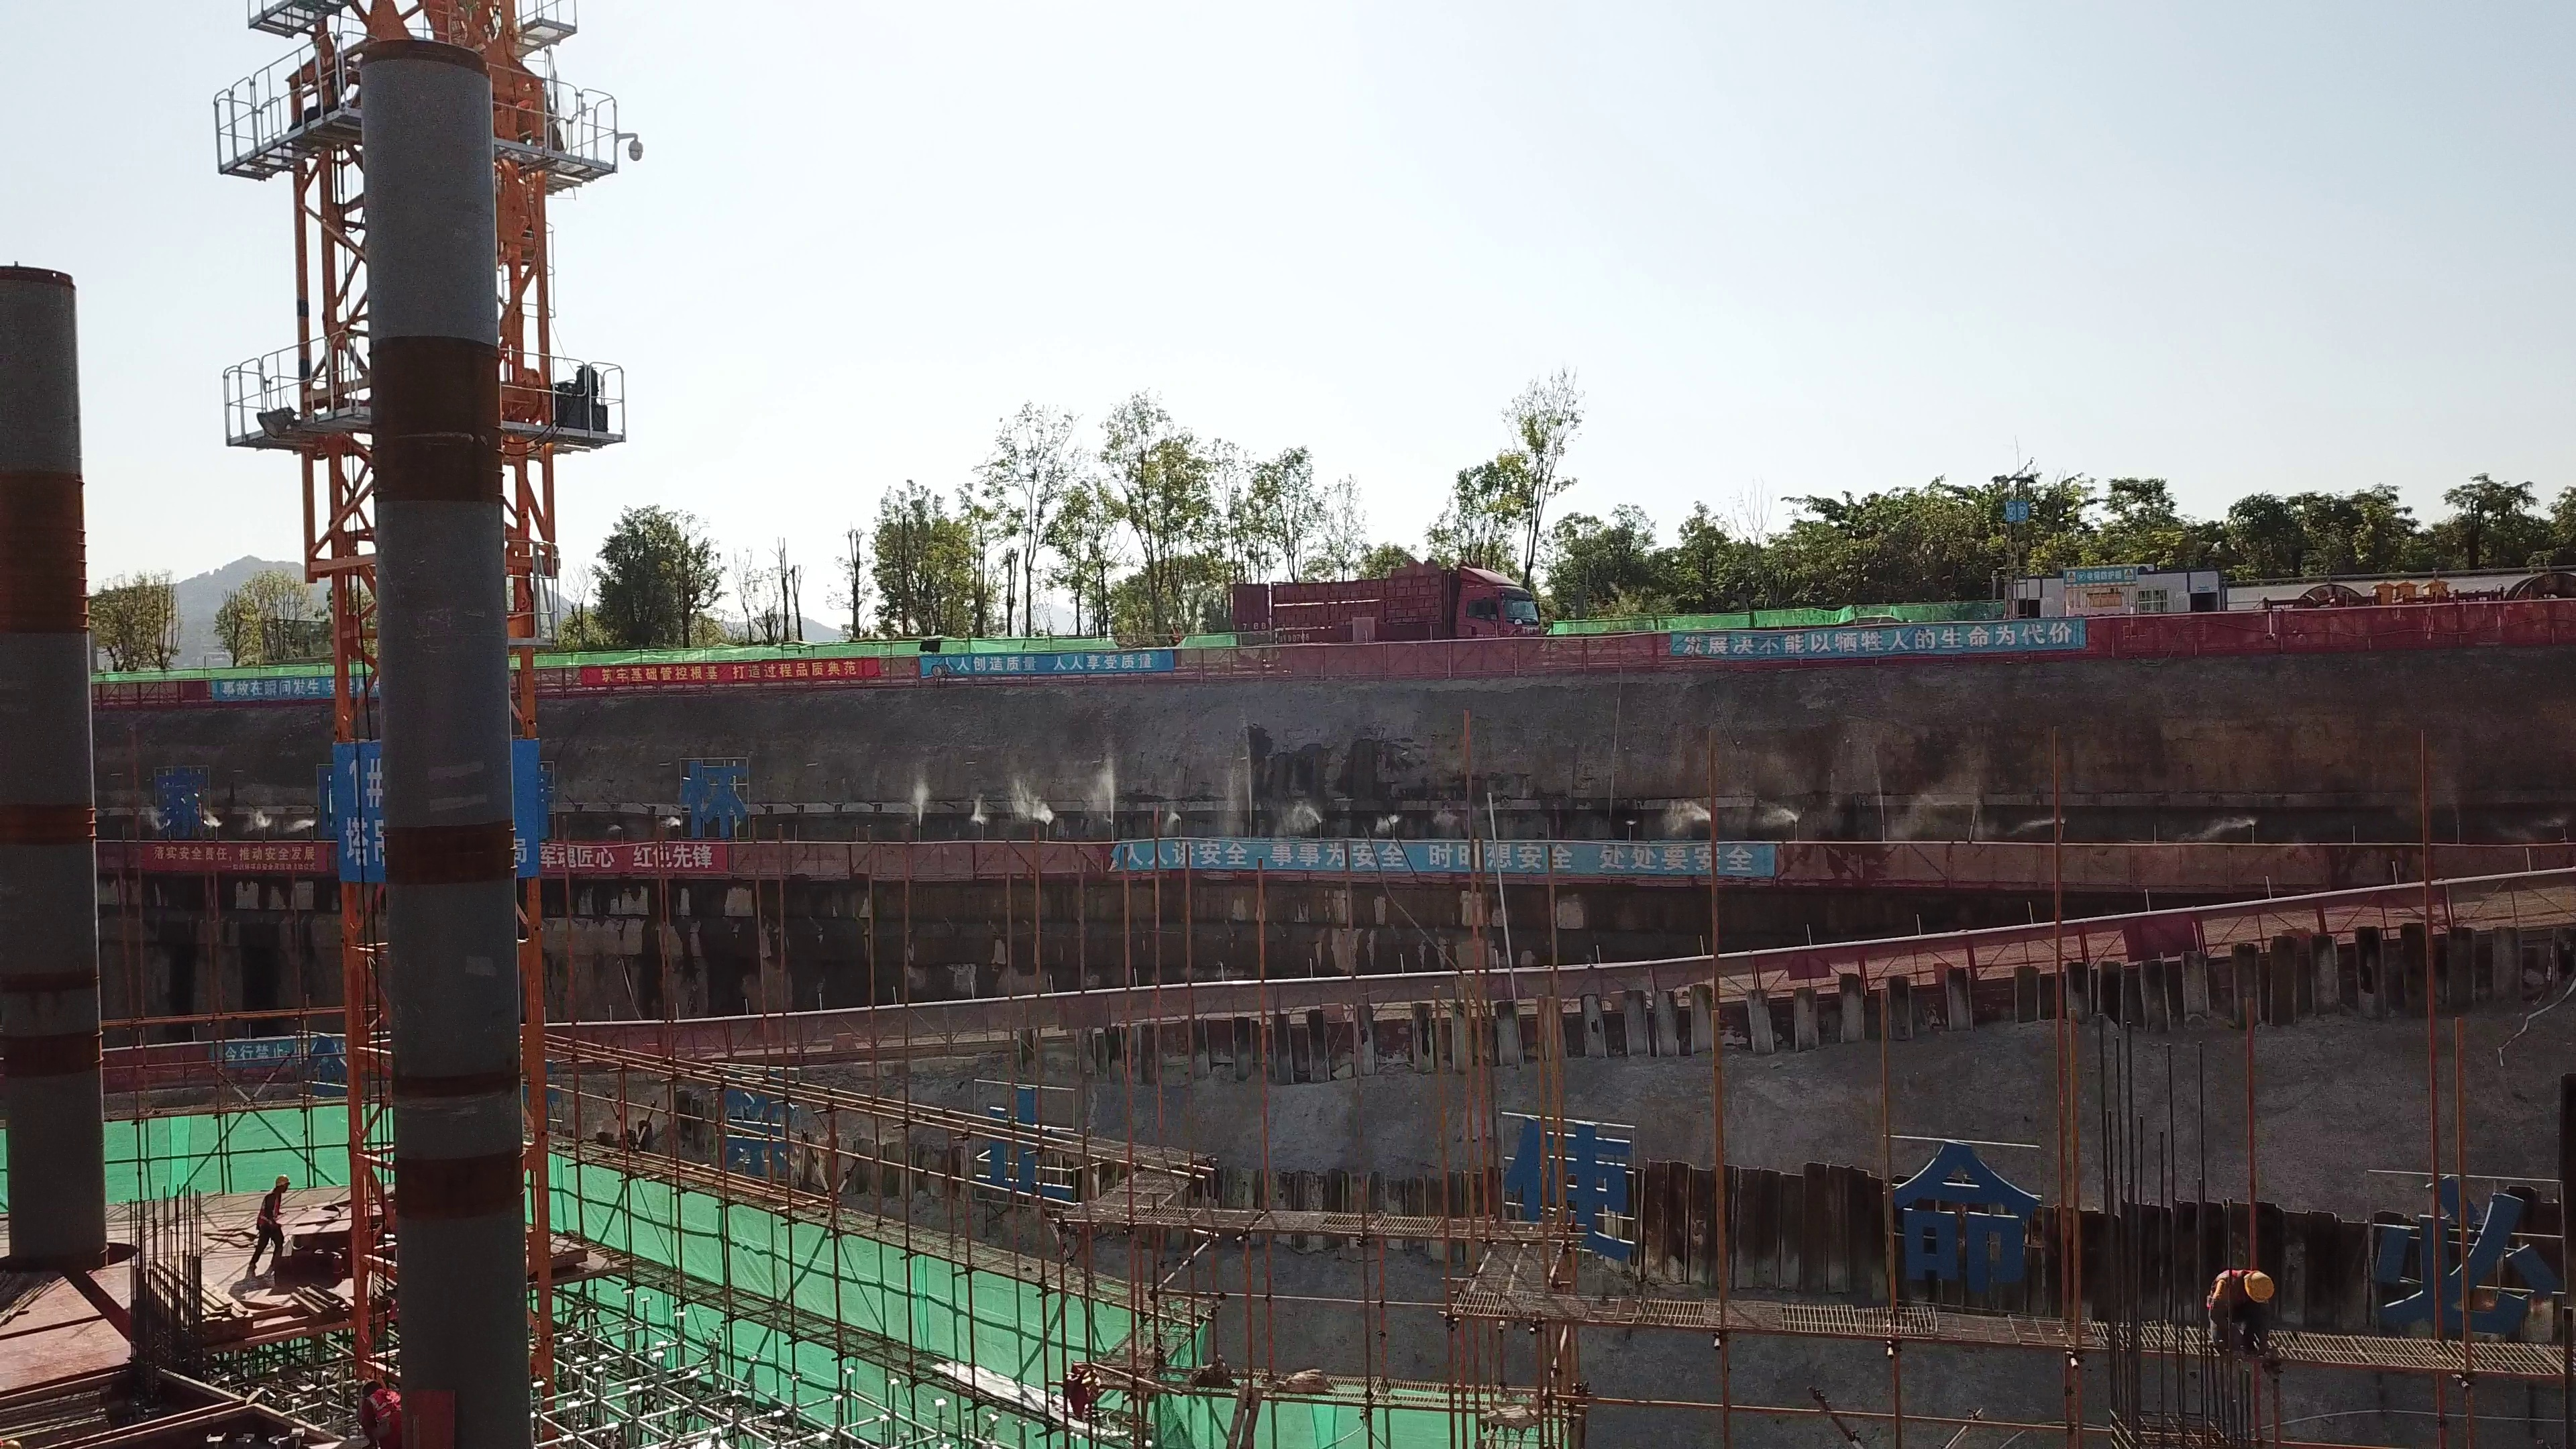fence: (1769, 819, 2347, 894), (2096, 601, 2576, 659), (726, 825, 1114, 883)
helmet: (2242, 1267, 2274, 1303), (272, 1175, 290, 1186)
person: (2205, 1250, 2295, 1362), (241, 1170, 297, 1291)
slogan: (1114, 837, 1768, 882), (1670, 618, 2088, 655), (568, 655, 872, 682), (131, 836, 323, 873), (537, 837, 724, 873), (919, 649, 1181, 676), (214, 673, 392, 699)
vest: (2207, 1260, 2246, 1313), (250, 1193, 290, 1230)
